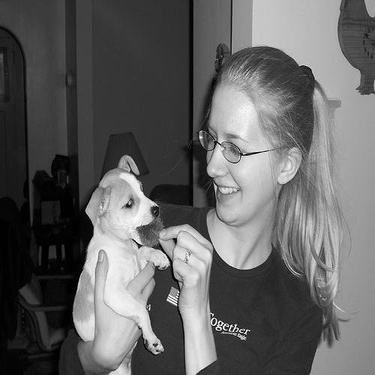dog: (56, 144, 179, 370)
